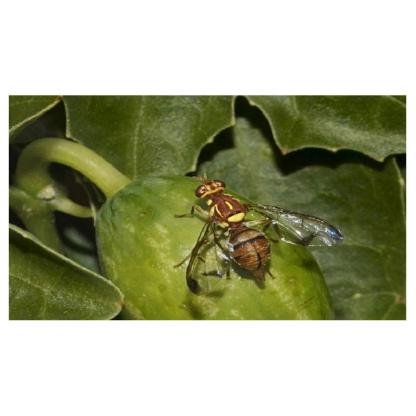fruit fly: (179, 172, 345, 296)
